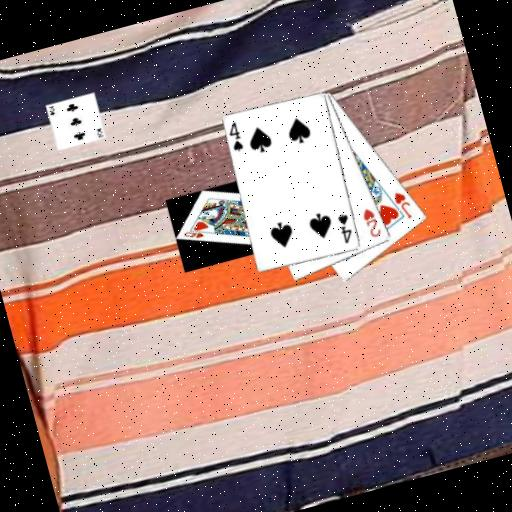2H: (358, 203, 384, 241)
4S: (333, 210, 356, 246), (223, 118, 245, 154)
JH: (389, 187, 415, 223)
